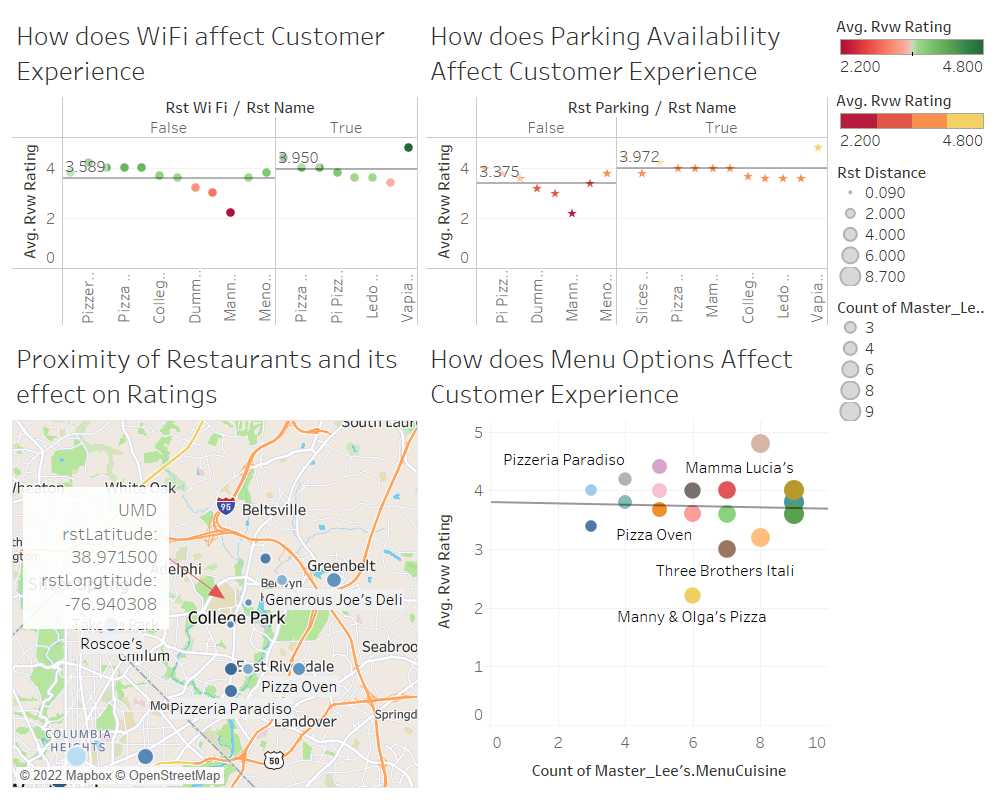

The dashboard page shown, as its layout file describes it:
{"tool":"tableau","page":{"name":"Compilation","canvas":[1000,800],"ordinal":0},"visuals":[{"type":"worksheet","title":"Rvw Dist by Wifi","mark":"Shape","rows":["rvwRating"],"cols":["rstWiFi","rstName"],"box":[8,8,414,323]},{"type":"worksheet","title":"Rvw Dist by Parking Avail","mark":"Shape","rows":["rvwRating"],"cols":["rstParking","rstName"],"box":[422,8,410,323]},{"type":"legend","title":"Rvw Dist by Wifi","param":"[federated.1g0ivmt1ecrnjx1afy8d01sbydce].[avg:rvwRating:qk]","box":[832,8,160,73]},{"type":"legend","title":"Rvw Dist by Parking Avail","param":"[federated.1g0ivmt1ecrnjx1afy8d01sbydce].[avg:rvwRating:qk]","box":[832,81,160,73]},{"type":"legend","title":"Rst Map","param":"[federated.1g0ivmt1ecrnjx1afy8d01sbydce].[none:rstDistance:qk]","box":[832,154,160,135]},{"type":"legend","title":"How Menu Cuisine Affect Rating (2)","param":"[federated.1g0ivmt1ecrnjx1afy8d01sbydce].[__tableau_internal_object_id__].[cnt:M","box":[832,289,160,135]},{"type":"worksheet","title":"Rst Map","mark":"Automatic","rows":["rstLatitude"],"cols":["rstLongtitude"],"box":[8,331,414,461]},{"type":"worksheet","title":"How Menu Cuisine Affect Rating (2)","mark":"Circle","rows":["rvwRating"],"cols":["Master_Lee's.MenuCuisine_32EFFF91CCD24043BA88E5A3B234F669"],"box":[422,331,410,461]}]}

Visuals, with their boxes in screenshot pixels (x1, y1, x2, y2), scaled from the page's 1000x800 canvas onto the 1000x800 screenshot:
"Rvw Dist by Wifi" worksheet (Shape marks): BBox(8, 8, 422, 331)
"Rvw Dist by Parking Avail" worksheet (Shape marks): BBox(422, 8, 832, 331)
"Rvw Dist by Wifi" legend: BBox(832, 8, 992, 81)
"Rvw Dist by Parking Avail" legend: BBox(832, 81, 992, 154)
"Rst Map" legend: BBox(832, 154, 992, 289)
"How Menu Cuisine Affect Rating (2)" legend: BBox(832, 289, 992, 424)
"Rst Map" worksheet: BBox(8, 331, 422, 792)
"How Menu Cuisine Affect Rating (2)" worksheet (Circle marks): BBox(422, 331, 832, 792)
